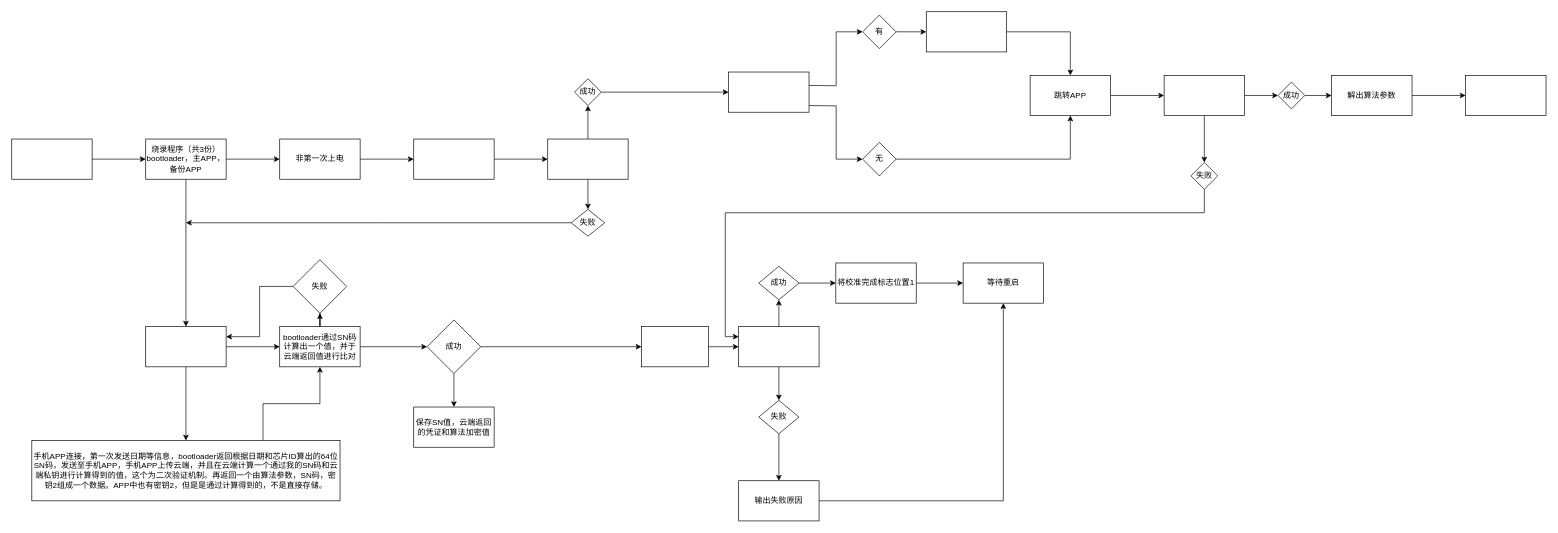
Some shapes in this 1558 by 533 pixel diagram are drawn without their labels. The shapes that lost their labels are listed below. From the top down, each one's centre as x and y in pixels, then its label:
At [966,31]: "将外置flash读取进行crc验证，并解密".
At [768,91]: "查看是否有OTA升级".
At [1204,95]: "判断校准是否完成".
At [1505,95]: "正常运行".
At [51,158]: "开始".
At [453,158]: "进入bootloader".
At [587,158]: "判断是否有保存SN和二级验证".
At [185,346]: "第一次上电，进入bootloader".
At [675,346]: "跳转到主APP程序".
At [778,346]: "启动除了算法外的所有功能，等待手机校准指令".
